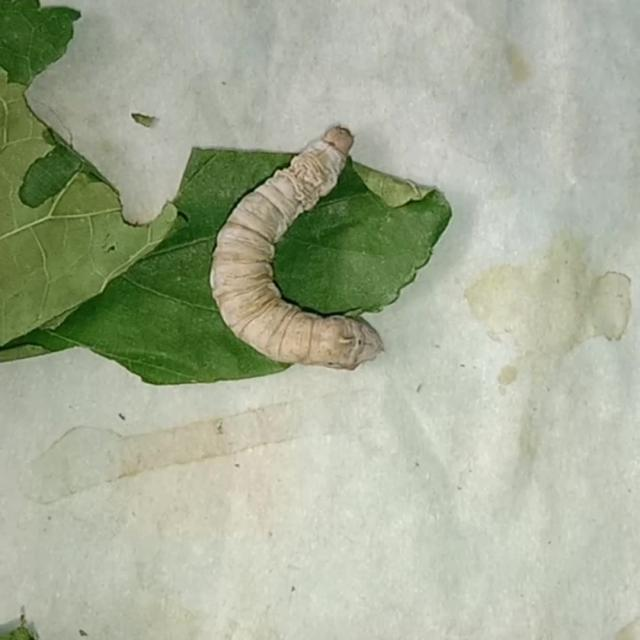Grasserie: (205, 93, 418, 416)
